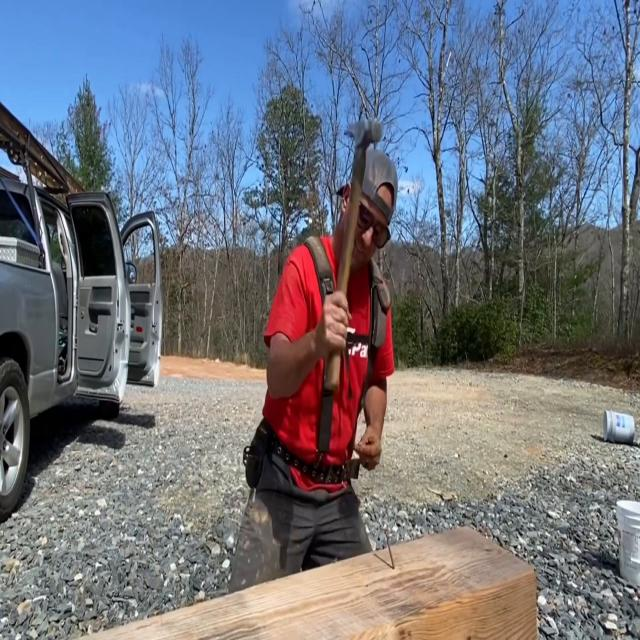hammer: (324, 112, 388, 390)
